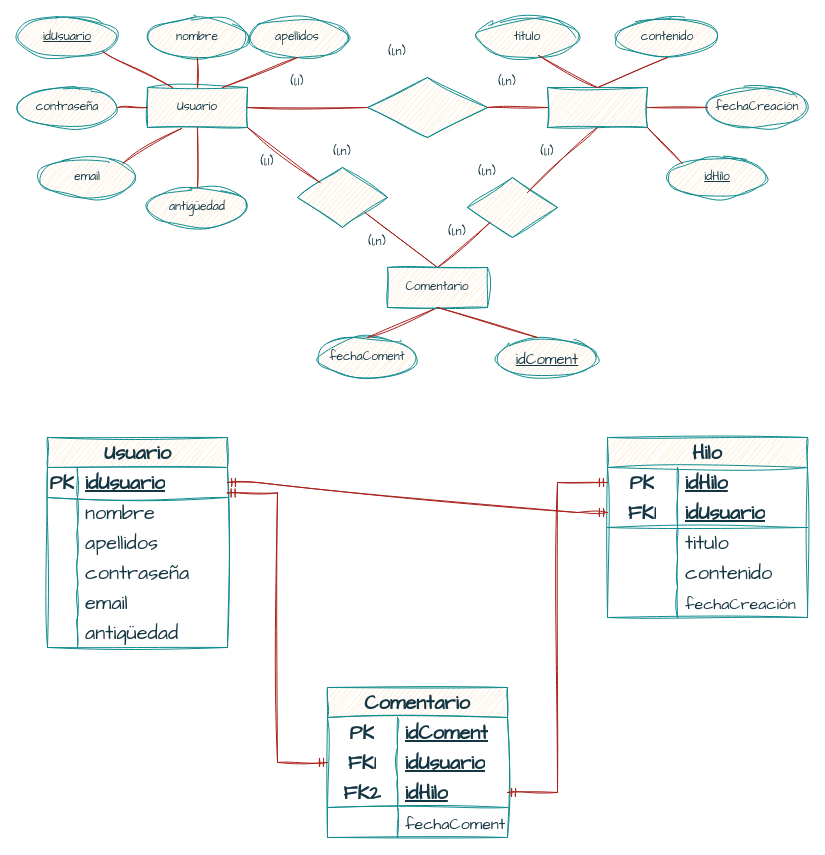
Some shapes in this 825 by 855 pixel diagram are drawn without their labels. The centre of each missing label's shape, as x and y in pixels:
abrir: point 427,107
hace: point 342,197
Hilos: point 597,107
tiene: point 512,207
